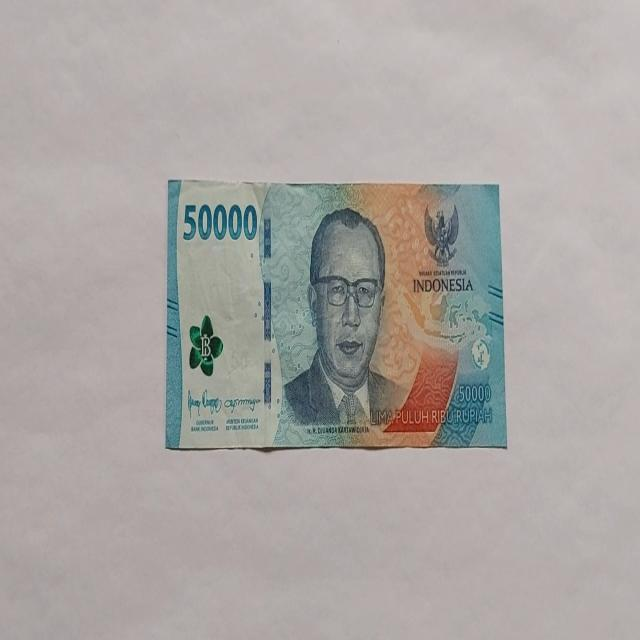lima puluh ribu rupiah: (165, 176, 508, 452), (273, 205, 407, 443)
